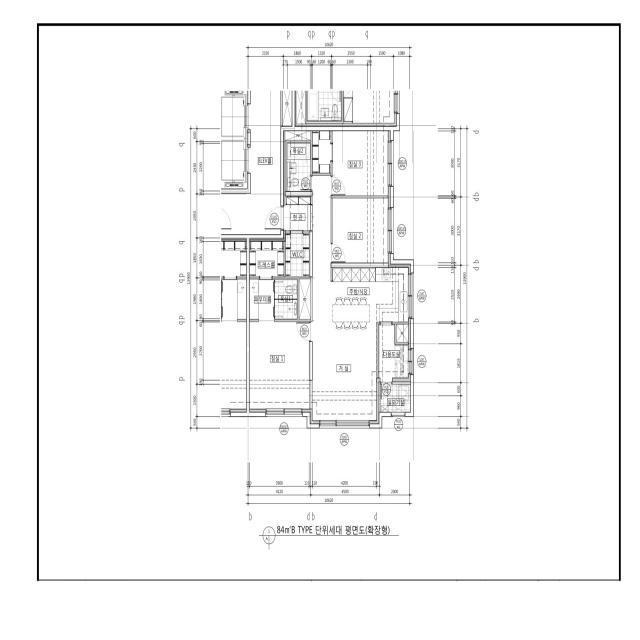space_bedroom: (250, 322, 309, 412), (333, 131, 390, 196), (333, 198, 390, 263), (313, 131, 331, 173)
space_dressroom: (250, 239, 284, 277), (250, 279, 274, 319)
space_elevator: (221, 139, 247, 189), (221, 91, 247, 139)
space_elevator_hall: (221, 91, 281, 234)
space_front: (284, 233, 309, 277), (284, 196, 311, 231)
space_kitchen: (330, 264, 410, 329)
space_living_room: (310, 175, 379, 424)
space_other: (299, 279, 311, 319), (284, 131, 311, 140), (397, 324, 410, 342)
space_outdoor_room: (380, 384, 410, 412)
space_toilet: (287, 144, 310, 191), (275, 300, 297, 319), (275, 280, 297, 299)
